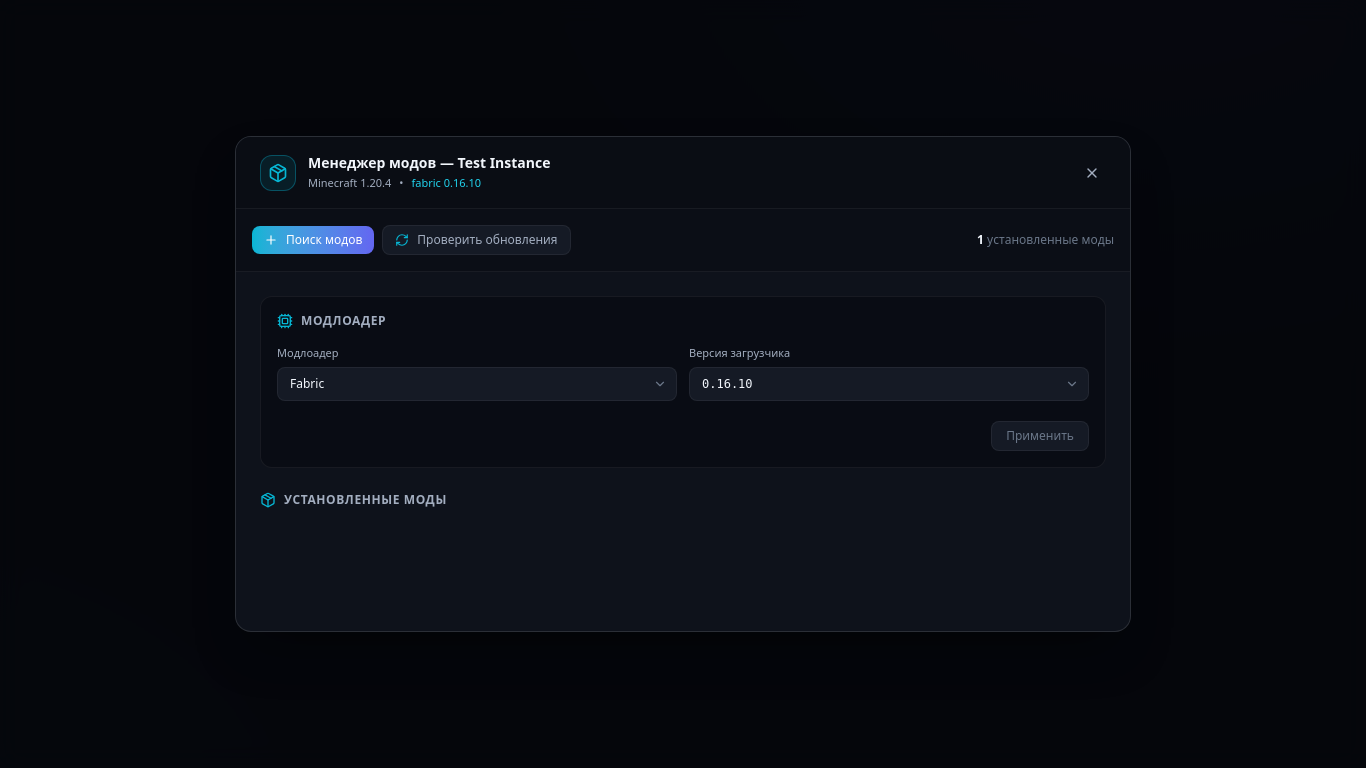
Modding Frontend Components › ModManagerModal › checks for mod updates
Click the button with test id "check-updates-btn": {"x": 476, "y": 240} [382,225,570,255]
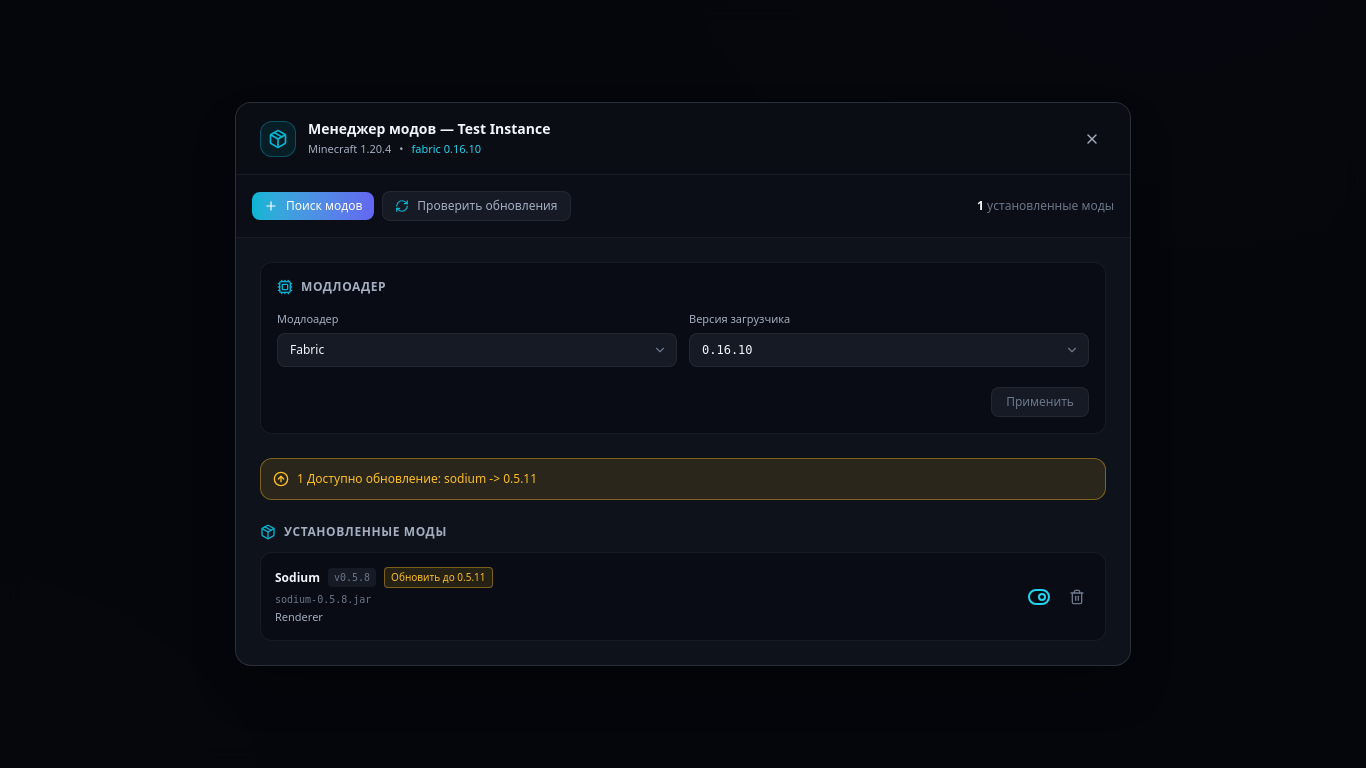
Check: the text "1 Доступно обновление: sodium -> 0.5.11" is shown, box [297,471,537,487]
